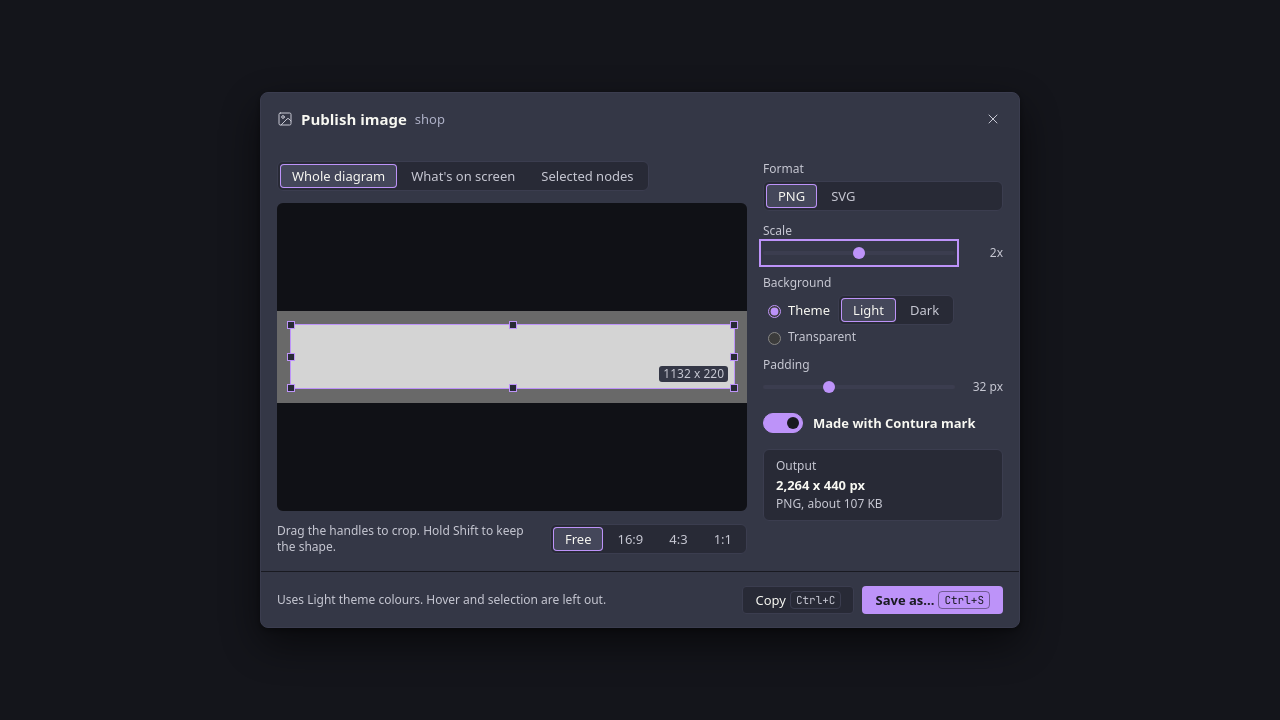
padding_and_mark_change_the_output
expect the text "32 px" is shown: met, box [973,378,1003,395]
Set the slider named "Padding" to "0" at (771, 387), box [763,377,955,397]
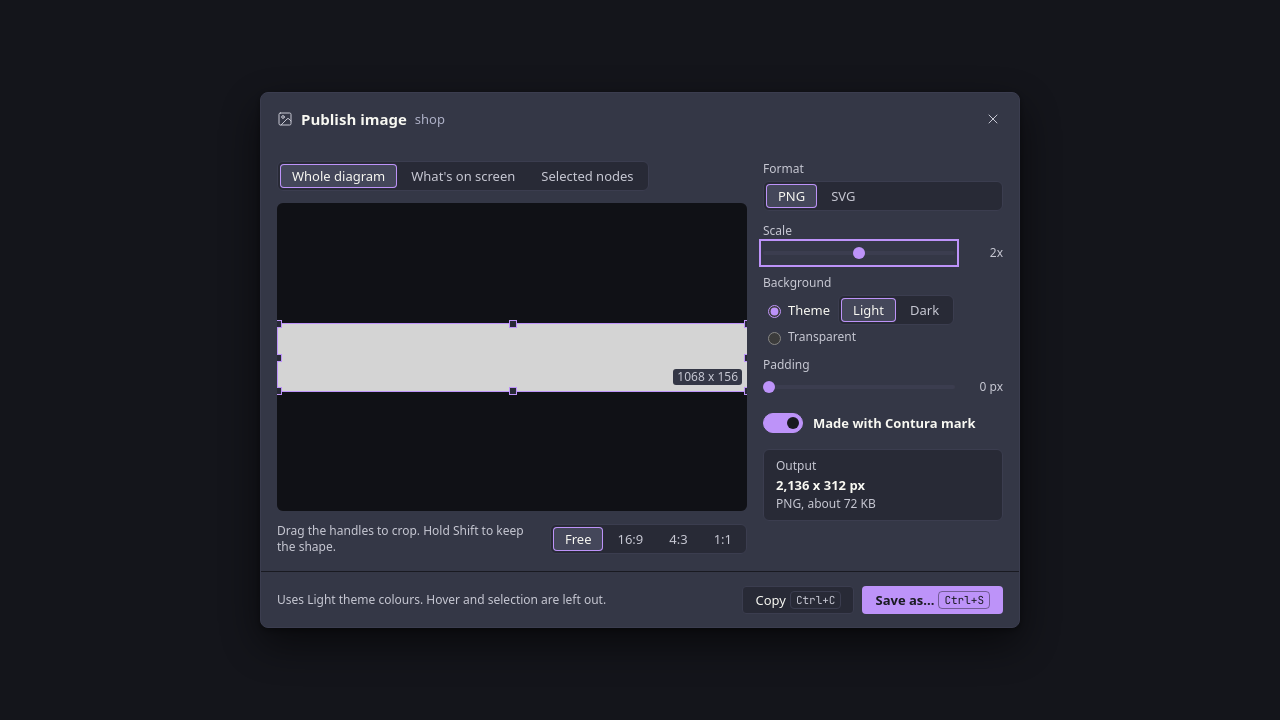
expect the text "0 px" is shown: met, box [980,378,1003,395]
expect the message "Output" shows "2,136 x 312 px": met, box [776,476,865,494]
